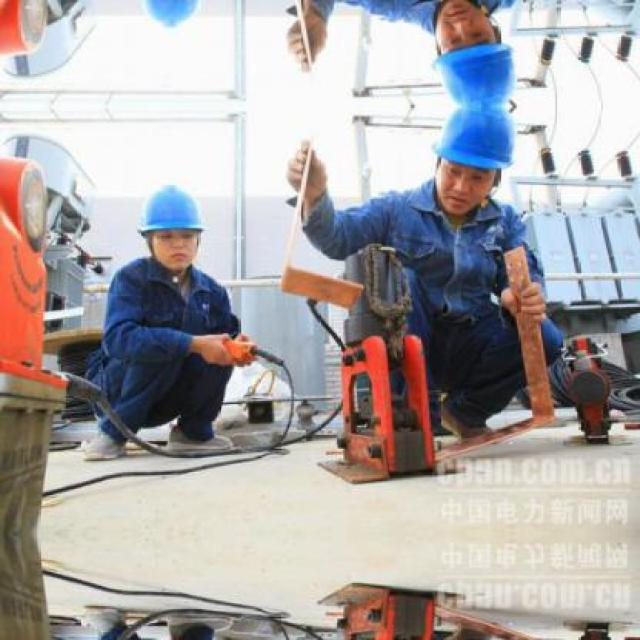helmet: (429, 105, 522, 220), (429, 0, 523, 108), (130, 179, 205, 276), (129, 0, 206, 34)
